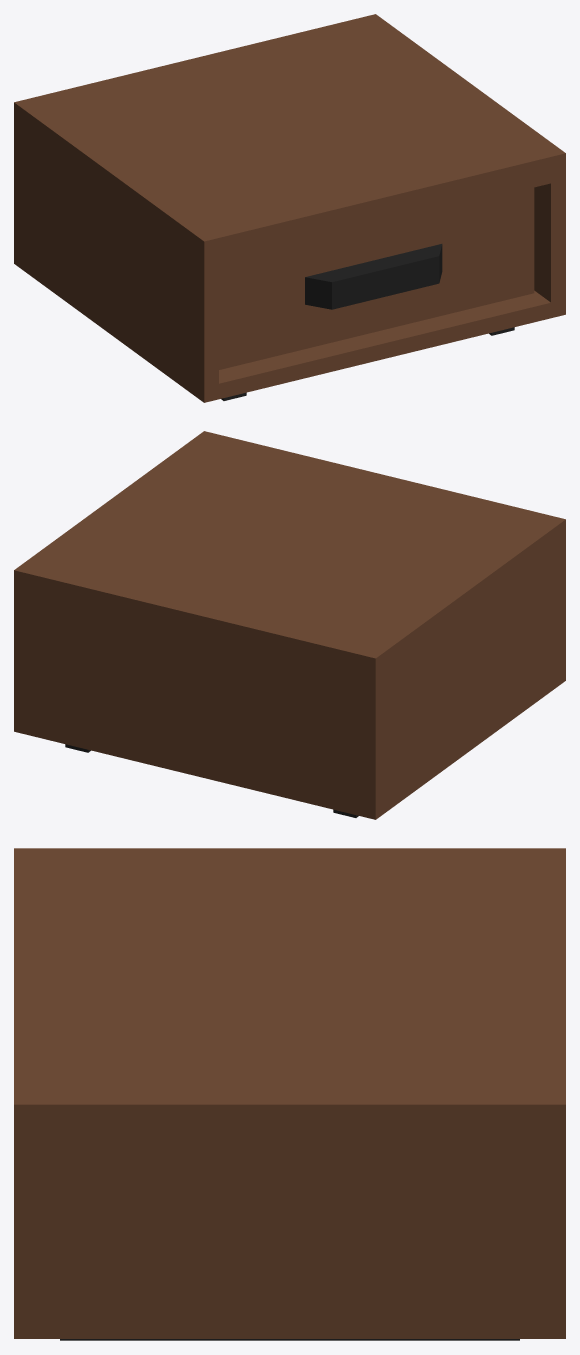
The model's file is drawer.glb.
3 views of the same model, one above another, from view 1: azimuth 30°, elevation 25°; view 2: azimuth 150°, elevation 25°; view 3: azimuth 270°, elevation 25° (orthographic). The views are drawn at different scales.
Visible parts, largest first — view 1: Drawer Mini 2 Base, Drawer Mini 2; view 2: Drawer Mini 2 Base; view 3: Drawer Mini 2 Base.
Part boxes in pixels (<box>): Drawer Mini 2 Base: <box>14,14,565,402</box>; Drawer Mini 2: <box>219,187,534,369</box>; Drawer Mini 2 Base: <box>14,431,565,819</box>; Drawer Mini 2 Base: <box>14,848,565,1340</box>.
Bounding box in the file's own units: 0.5311 × 0.2524 × 0.4837.
2 materials, 2 textured.
